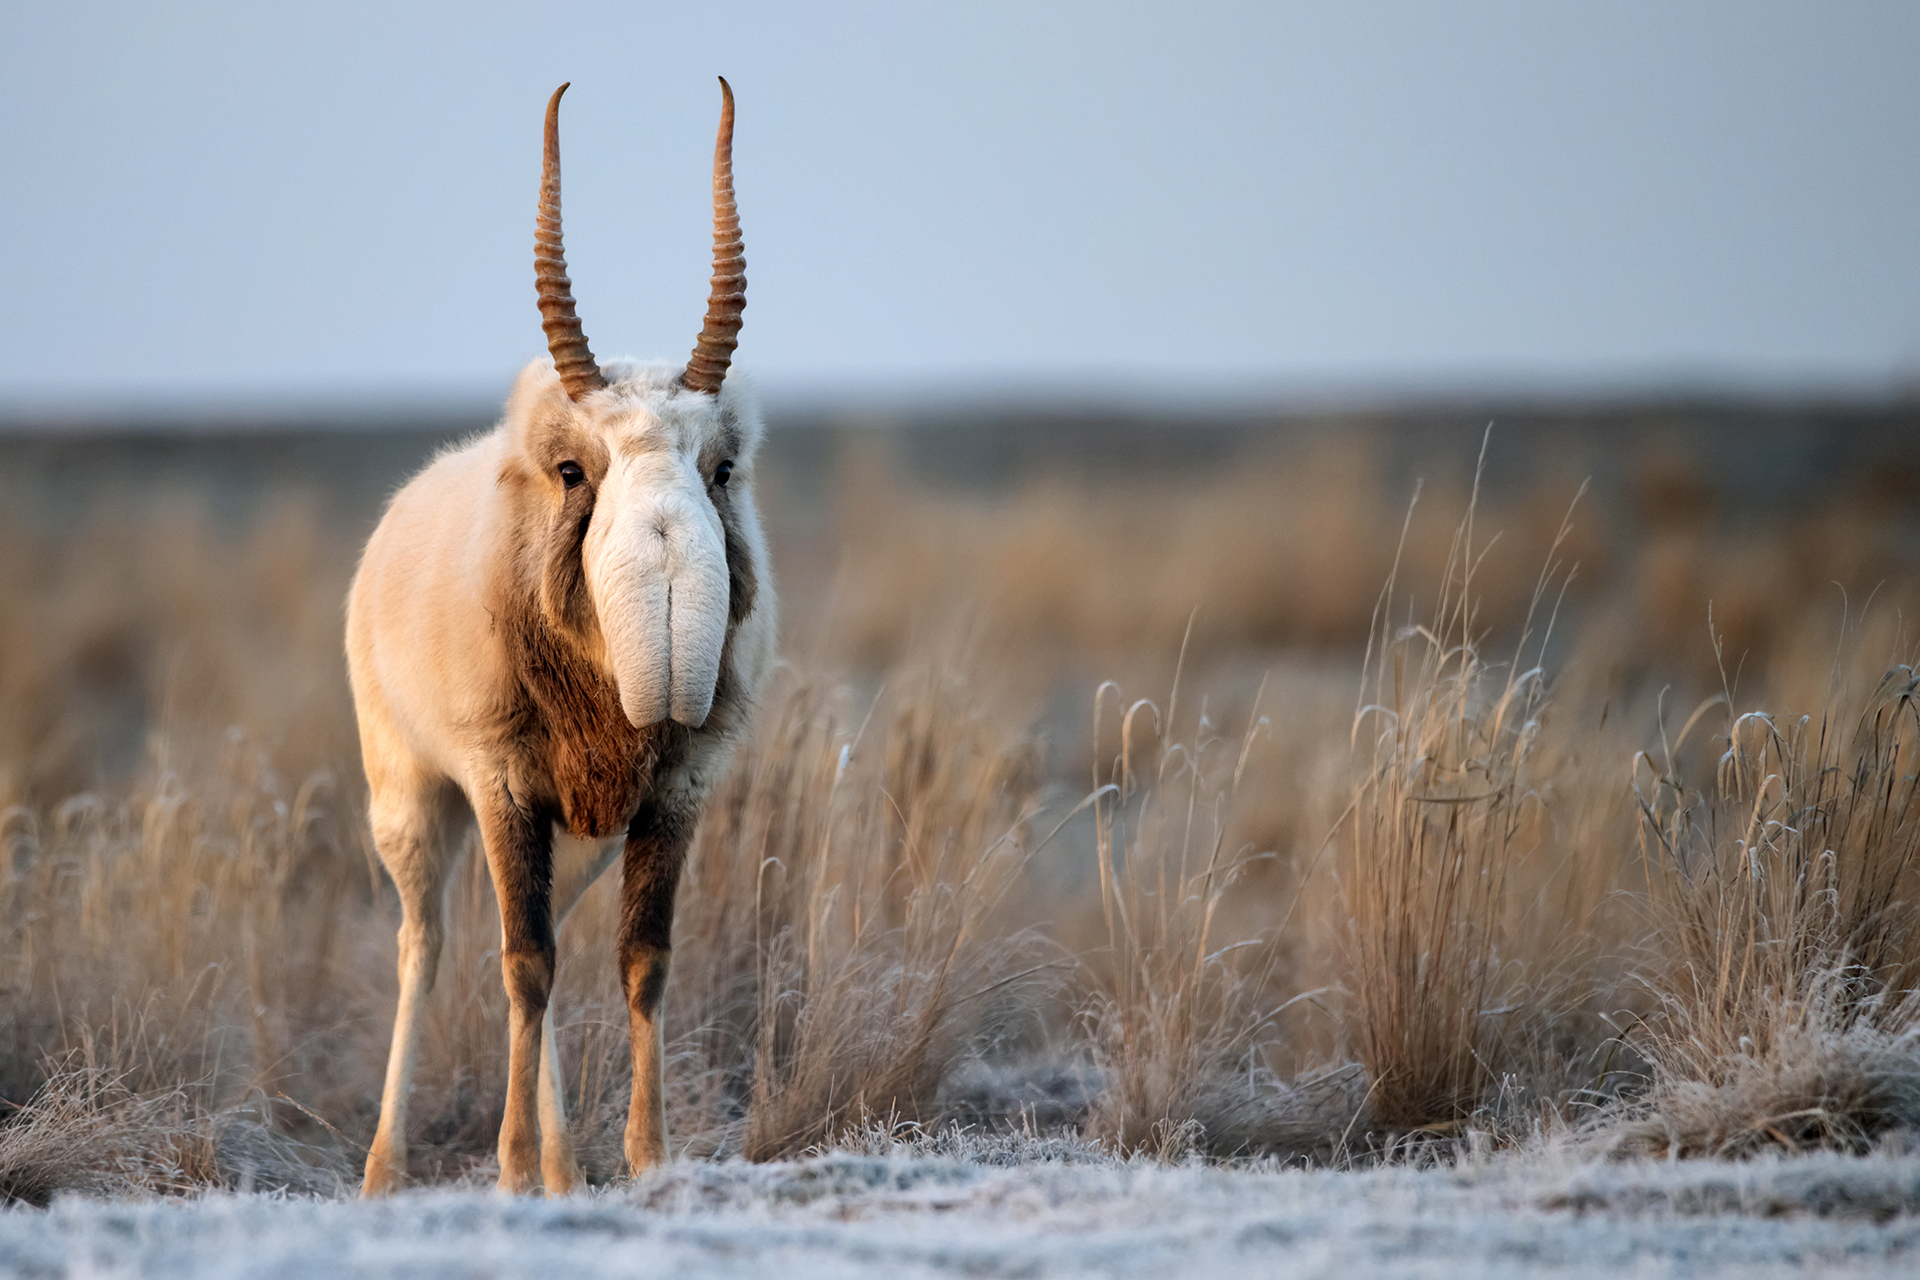saiga: (333, 74, 773, 1246)
